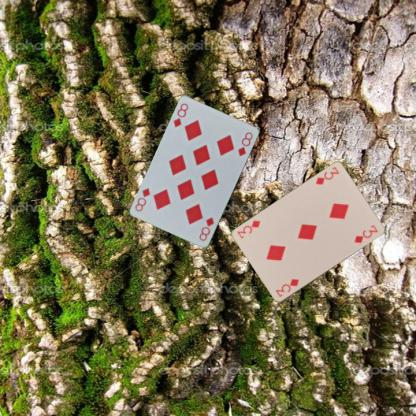3d: (274, 276, 300, 299), (313, 165, 340, 186)
8d: (171, 100, 190, 129), (197, 214, 216, 242)
